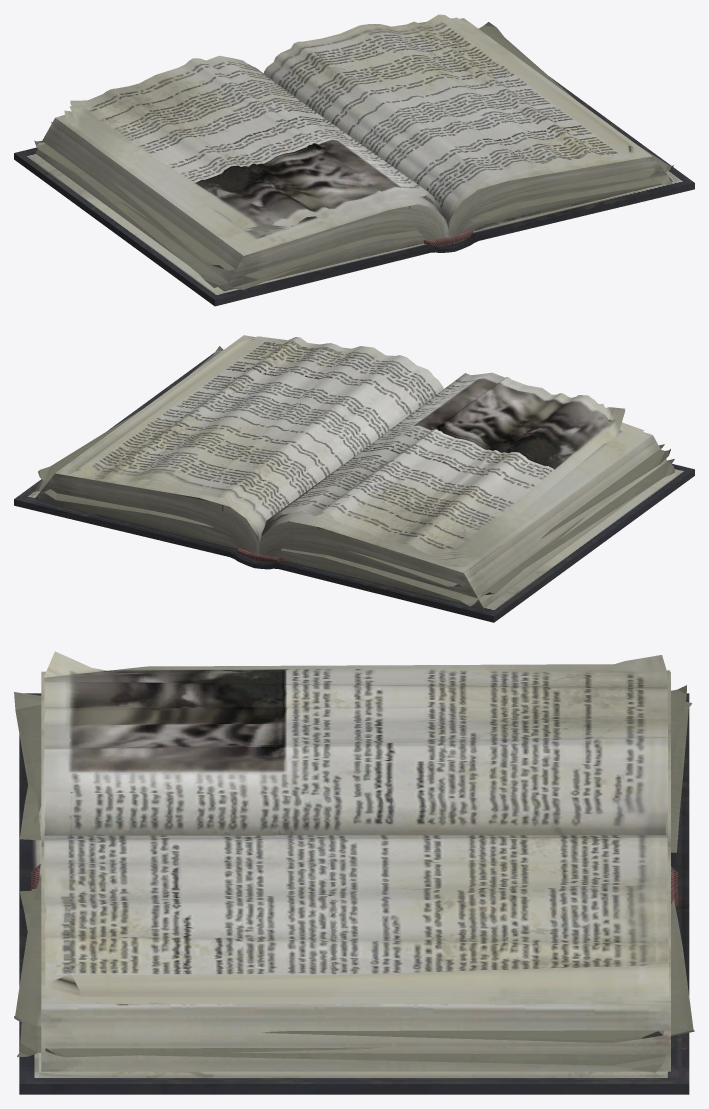
The model's file is book_politic_open.dae.
3 renders of one model, top to bottom at view 1: azimuth 30°, elevation 25°; view 2: azimuth 150°, elevation 25°; view 3: azimuth 270°, elevation 25°, orthographic. The views are drawn at different scales.
Visible parts, largest first — view 1: book_politic_open; view 2: book_politic_open; view 3: book_politic_open.
Part boxes in pixels (<box>): book_politic_open: <box>14,14,694,306</box>; book_politic_open: <box>14,335,694,622</box>; book_politic_open: <box>14,651,694,1094</box>.
Size of the model in its own units: 0.345 by 0.0464 by 0.2543.
